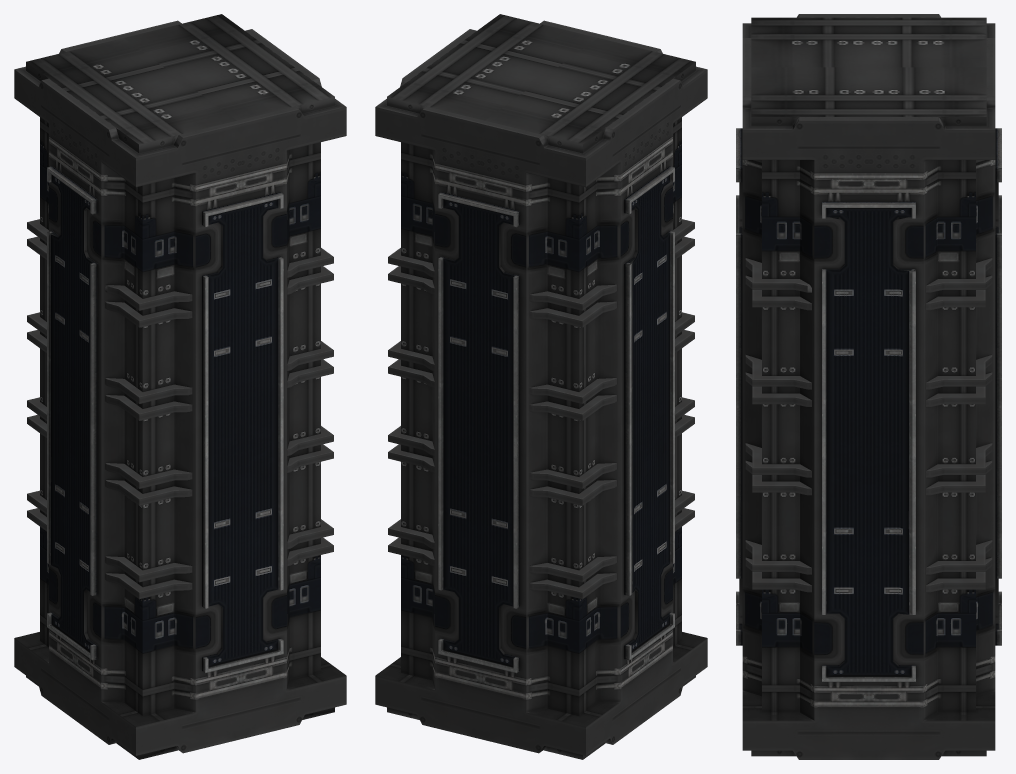
File: Panel_C_Column_2.FBX
3 views of the same model, side by side, from view 1: azimuth 30°, elevation 25°; view 2: azimuth 150°, elevation 25°; view 3: azimuth 270°, elevation 25° (orthographic). The views are drawn at different scales.
Parts seen in each view (by area): view 1: Panel_C_Column_2; view 2: Panel_C_Column_2; view 3: Panel_C_Column_2.
Boxes of the visible parts, <box> form: Panel_C_Column_2: <box>14,14,346,759</box>; Panel_C_Column_2: <box>375,14,707,759</box>; Panel_C_Column_2: <box>736,14,1001,759</box>.
Size of the model in its own units: 113 by 300 by 113.
